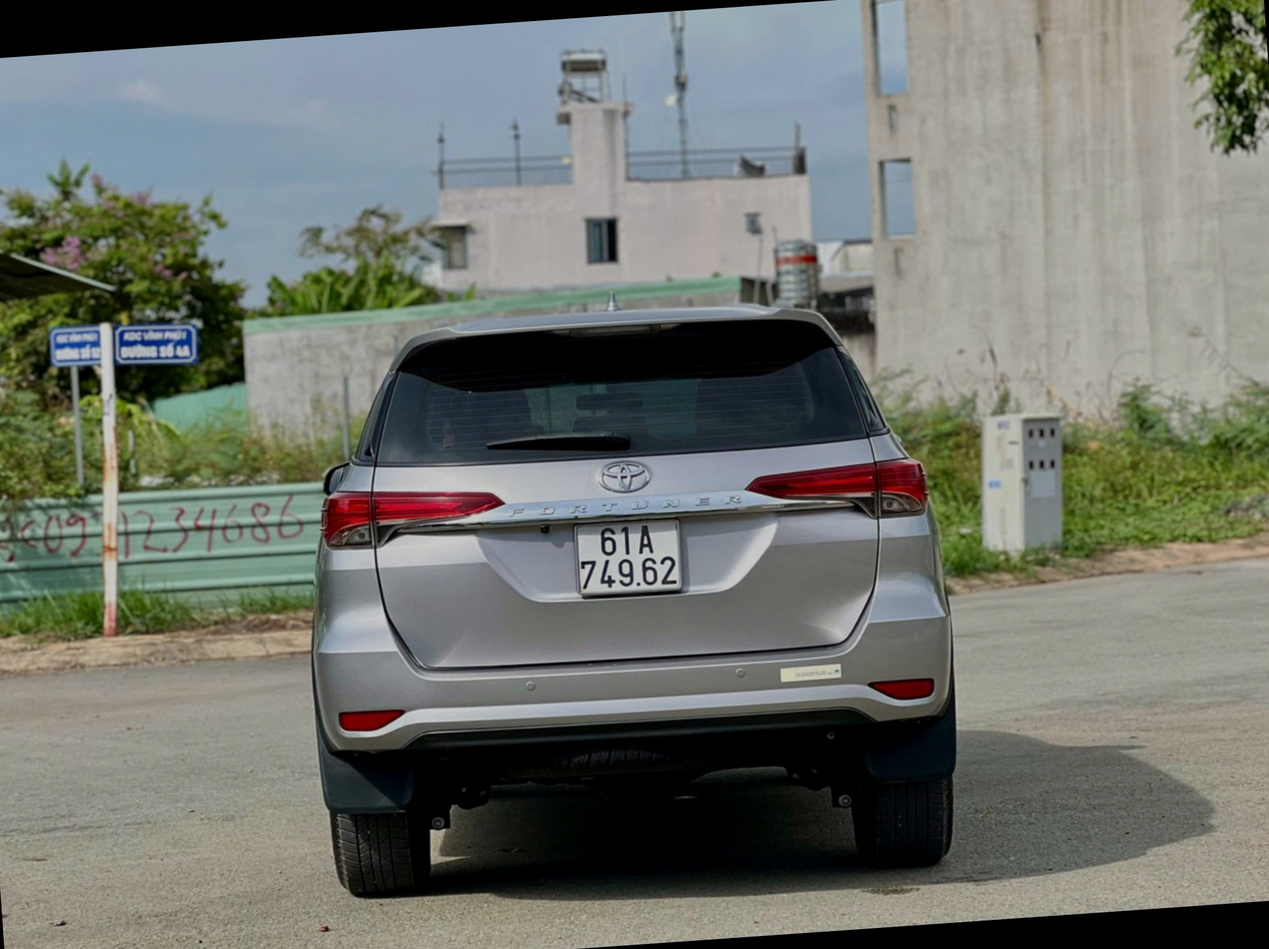Bien-so: (557, 512, 664, 602)
